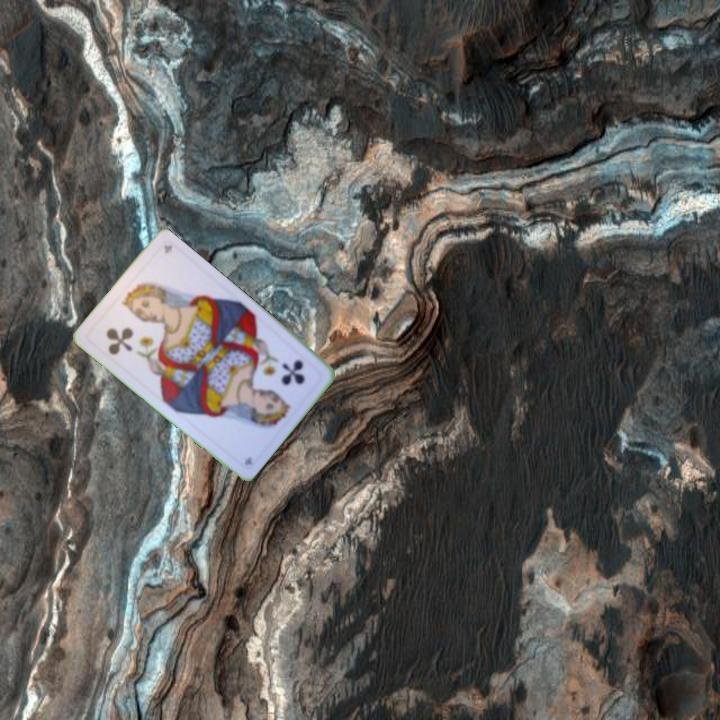c_q.png: (84, 286, 169, 373), (241, 337, 326, 423)
